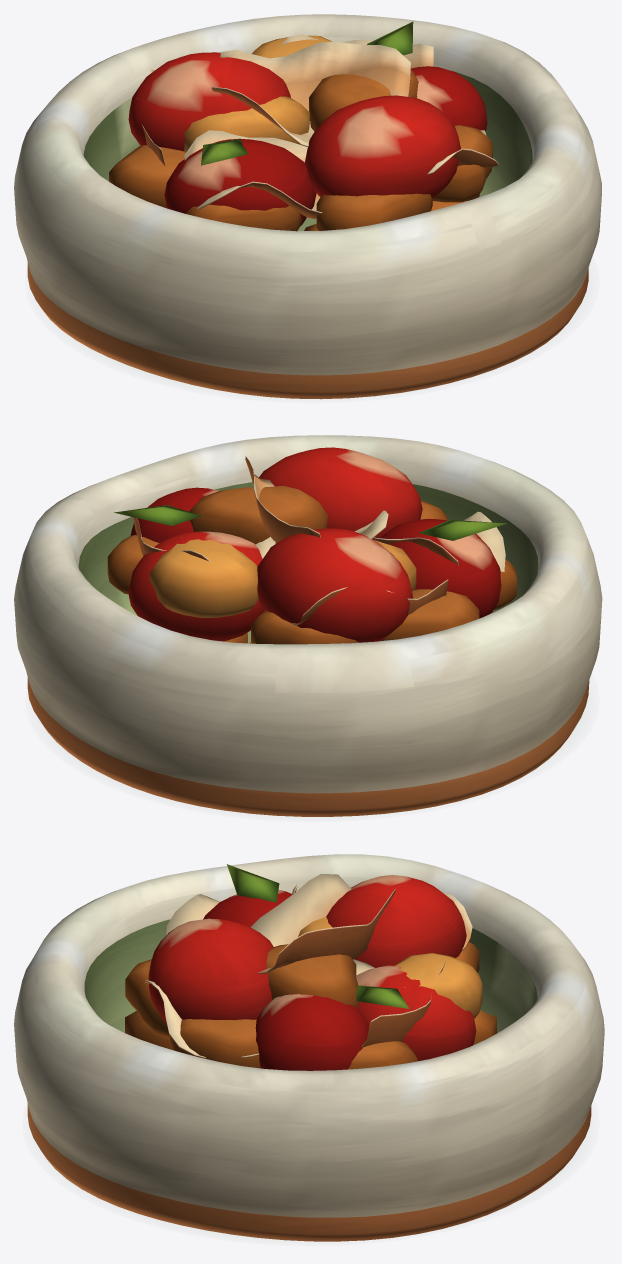
Rendered from yard-food-painted-reference.glb.
3 views of the same model, one above another, from view 1: azimuth 30°, elevation 25°; view 2: azimuth 150°, elevation 25°; view 3: azimuth 270°, elevation 25° (orthographic).
Parts seen in each view (by area): view 1: IvorySageClayBowl, CraftedCrimsonBerries, SculptedToastedNuggets, PaleFoldedBonitoShavings, CreasedBerryLeafWedges; view 2: IvorySageClayBowl, CraftedCrimsonBerries, SculptedToastedNuggets, PaleFoldedBonitoShavings, CreasedBerryLeafWedges; view 3: IvorySageClayBowl, CraftedCrimsonBerries, SculptedToastedNuggets, PaleFoldedBonitoShavings, CreasedBerryLeafWedges.
Part boxes in pixels (x1,y1,x2,y2): IvorySageClayBowl: [14, 14, 601, 399]; CraftedCrimsonBerries: [128, 52, 487, 225]; SculptedToastedNuggets: [109, 35, 492, 231]; PaleFoldedBonitoShavings: [137, 34, 498, 218]; CreasedBerryLeafWedges: [201, 21, 413, 165]; IvorySageClayBowl: [14, 435, 602, 816]; CraftedCrimsonBerries: [128, 447, 501, 642]; SculptedToastedNuggets: [107, 486, 516, 644]; PaleFoldedBonitoShavings: [133, 456, 505, 625]; CreasedBerryLeafWedges: [114, 505, 507, 540]; IvorySageClayBowl: [14, 854, 604, 1241]; CraftedCrimsonBerries: [148, 875, 476, 1070]; SculptedToastedNuggets: [125, 917, 496, 1069]; PaleFoldedBonitoShavings: [145, 873, 472, 1058]; CreasedBerryLeafWedges: [227, 864, 409, 1008].
Bounding box in the file's own units: 0.6267 × 0.2608 × 0.6267.
4 materials, 3 textured.
